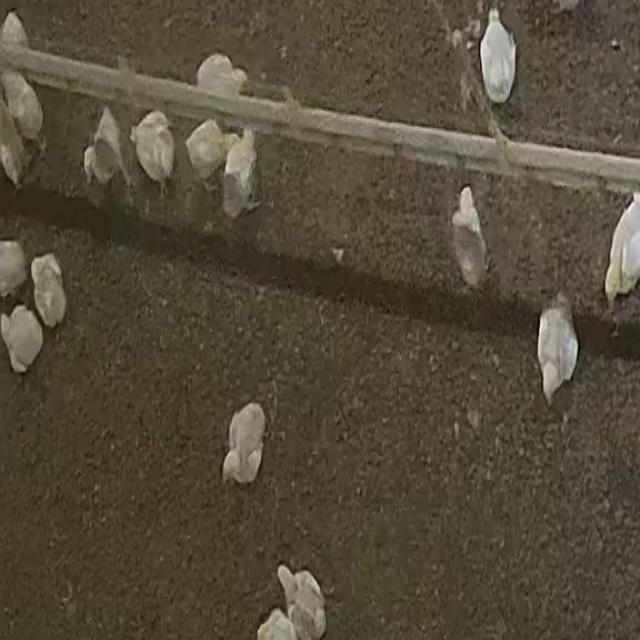chicken: (535, 292, 580, 406), (450, 185, 490, 291), (82, 106, 130, 194), (604, 192, 640, 308), (221, 400, 268, 487), (129, 109, 176, 194), (479, 5, 517, 106), (277, 566, 326, 640), (1, 66, 45, 147), (222, 128, 258, 218), (0, 303, 44, 374), (184, 117, 228, 186), (31, 254, 68, 330), (194, 53, 246, 100)
